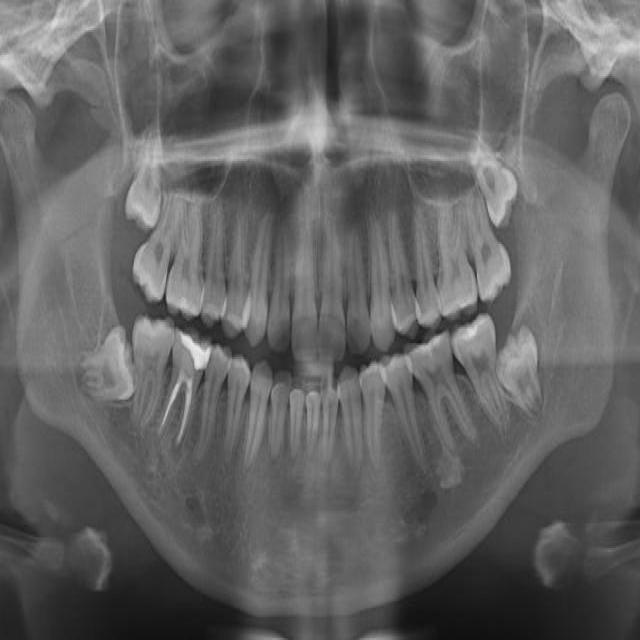dolgu: (178, 320, 214, 379)
kanal-tedavisi: (158, 363, 198, 442)
